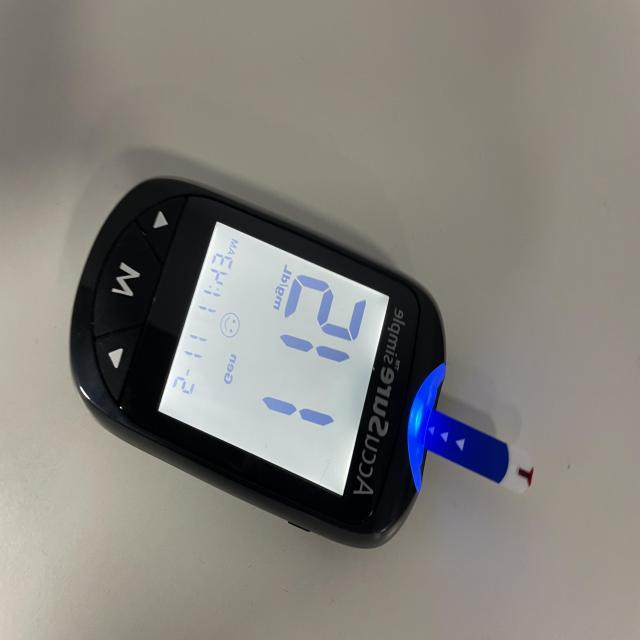gluco: (67, 177, 511, 552)
